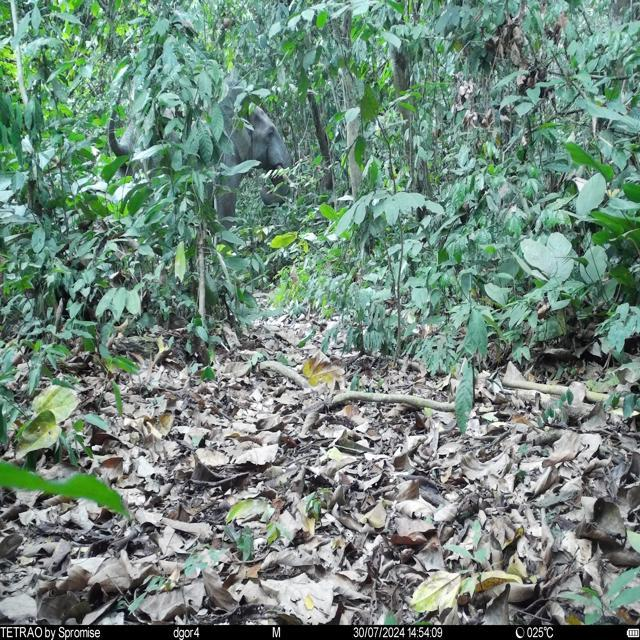elephant: (108, 70, 296, 248)
tusk: (274, 162, 296, 190)
